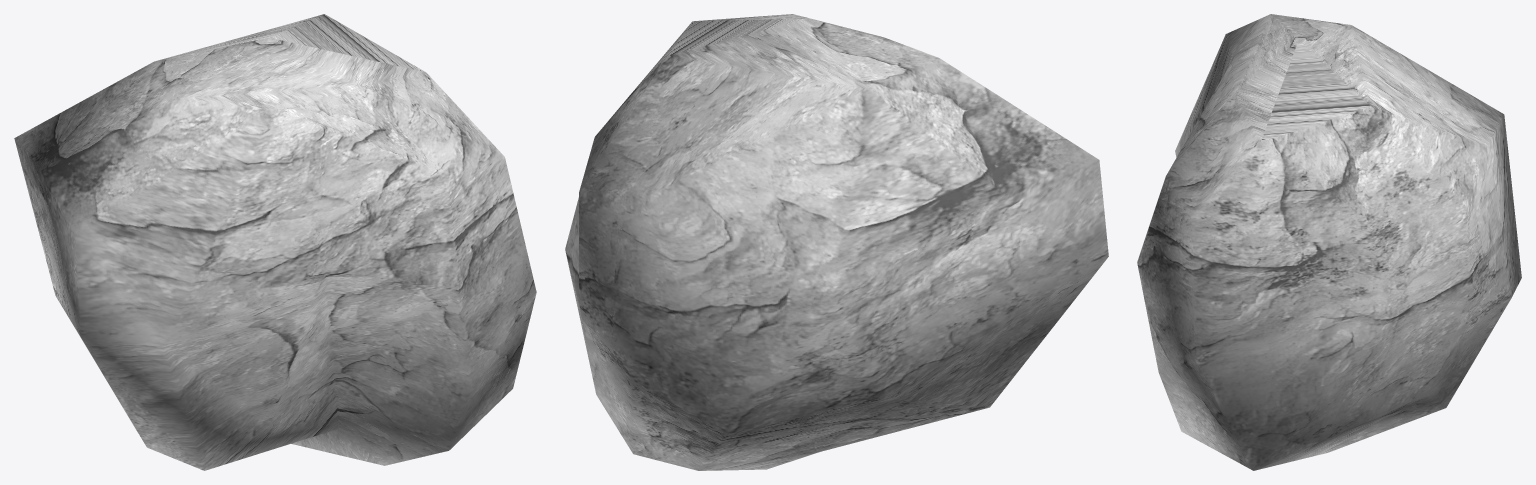
File: Rock_Big_04.fbx
The picture shows the model from 3 angles, left to right: view 1: azimuth 30°, elevation 25°; view 2: azimuth 150°, elevation 25°; view 3: azimuth 270°, elevation 25°; orthographic projection. The views are drawn at different scales.
Visible parts, largest first — view 1: Rock_Big_04; view 2: Rock_Big_04; view 3: Rock_Big_04.
Boxes of the visible parts, x1,y1,x2,y2 form: Rock_Big_04: (14,14,536,470); Rock_Big_04: (565,14,1108,470); Rock_Big_04: (1137,14,1521,470).
Bounding box in the file's own units: 10039 × 8982 × 8380.
